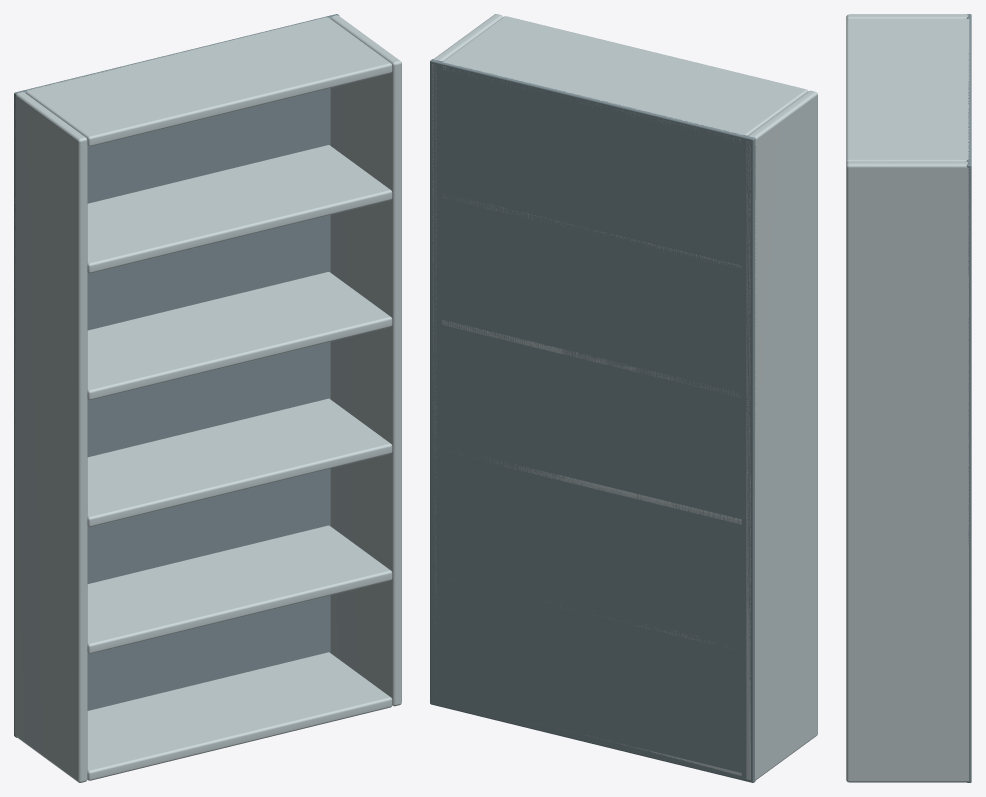
File: shelf.glb
3 renders of one model, left to right at view 1: azimuth 30°, elevation 25°; view 2: azimuth 150°, elevation 25°; view 3: azimuth 270°, elevation 25°, orthographic. The views are drawn at different scales.
Parts seen in each view (by area): view 1: back, side_-1, side_1, shelf_6, shelf_5, shelf_1, shelf_4, shelf_2, shelf_3; view 2: back, side_-1, shelf_6, shelf_3, side_1, shelf_4; view 3: side_1, shelf_6, back, side_-1.
Part boxes in pixels (left/top/right/bottom): back: left=14, top=14, right=339, bottom=737; side_-1: left=15, top=92, right=87, bottom=782; side_1: left=330, top=15, right=401, bottom=706; shelf_6: left=26, top=17, right=392, bottom=146; shelf_5: left=87, top=145, right=392, bottom=273; shelf_1: left=87, top=652, right=392, bottom=780; shelf_4: left=87, top=272, right=392, bottom=400; shelf_2: left=87, top=525, right=392, bottom=653; shelf_3: left=87, top=398, right=392, bottom=526; back: left=430, top=59, right=755, bottom=782; side_-1: left=746, top=90, right=817, bottom=780; shelf_6: left=443, top=16, right=807, bottom=143; shelf_3: left=455, top=454, right=741, bottom=524; side_1: left=432, top=14, right=502, bottom=665; shelf_4: left=441, top=320, right=740, bottom=397; side_1: left=846, top=161, right=968, bottom=782; shelf_6: left=846, top=19, right=969, bottom=162; back: left=966, top=14, right=971, bottom=782; side_-1: left=846, top=14, right=968, bottom=19.
Size of the model in its own units: 1 by 1.9 by 0.35.
